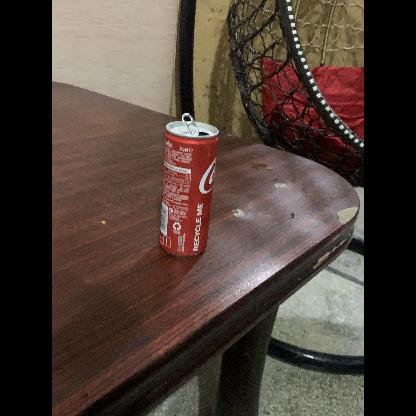Lid_Open: (178, 110, 212, 142)
Tin_Can: (156, 110, 222, 260)
